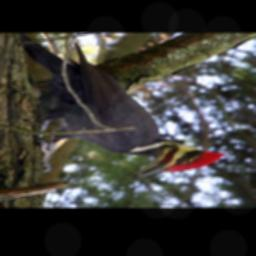Woodpecker: (15, 33, 228, 180)
